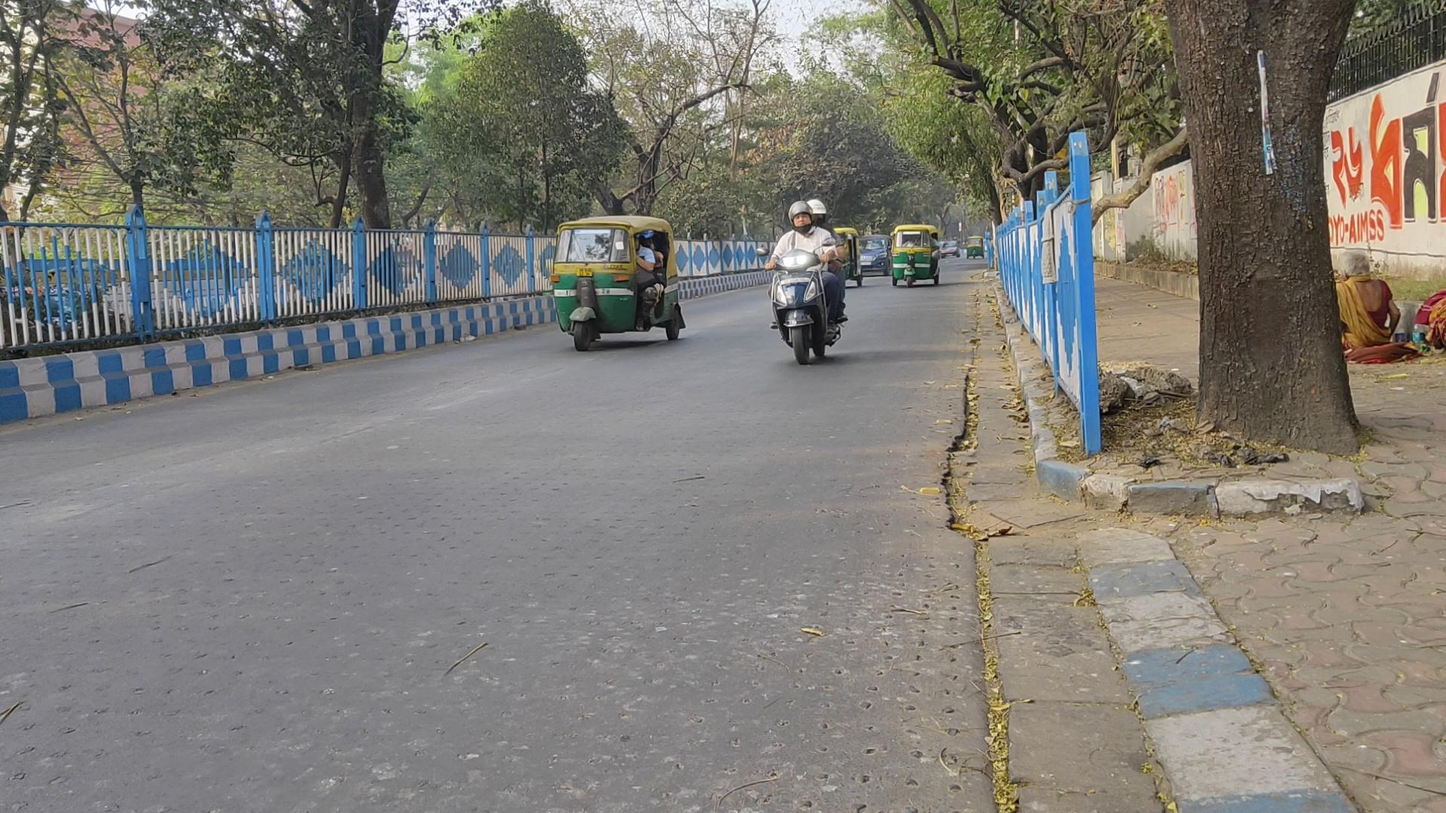Auto: (545, 212, 688, 353), (889, 220, 941, 288), (966, 236, 984, 260)
bike: (763, 197, 850, 367)
car: (856, 234, 894, 278), (941, 240, 961, 258)
